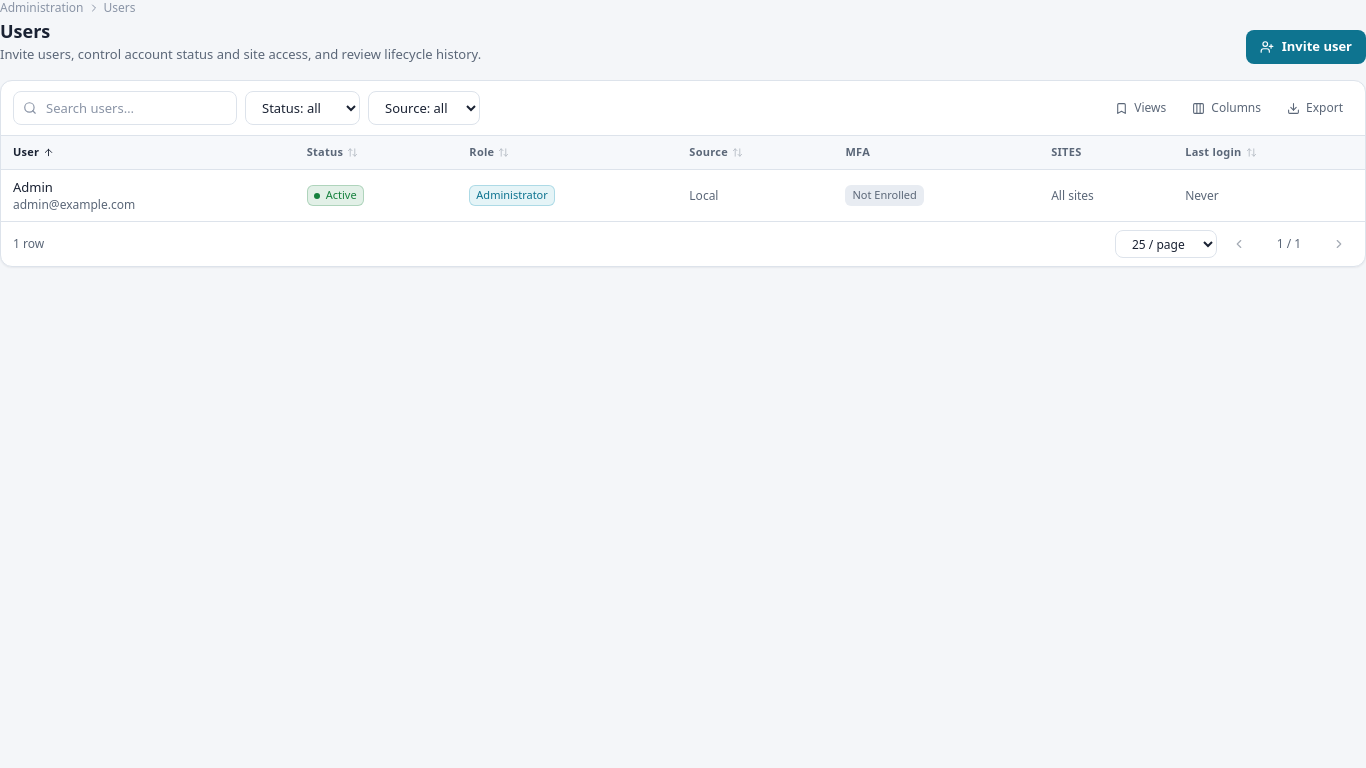
supports invitation creation and shows the one-time copyable link
Expected: the text "admin@example.com" is shown, [13,196,135,213]
Click the button "Invite user": [1306, 47] box [1246,30,1365,64]
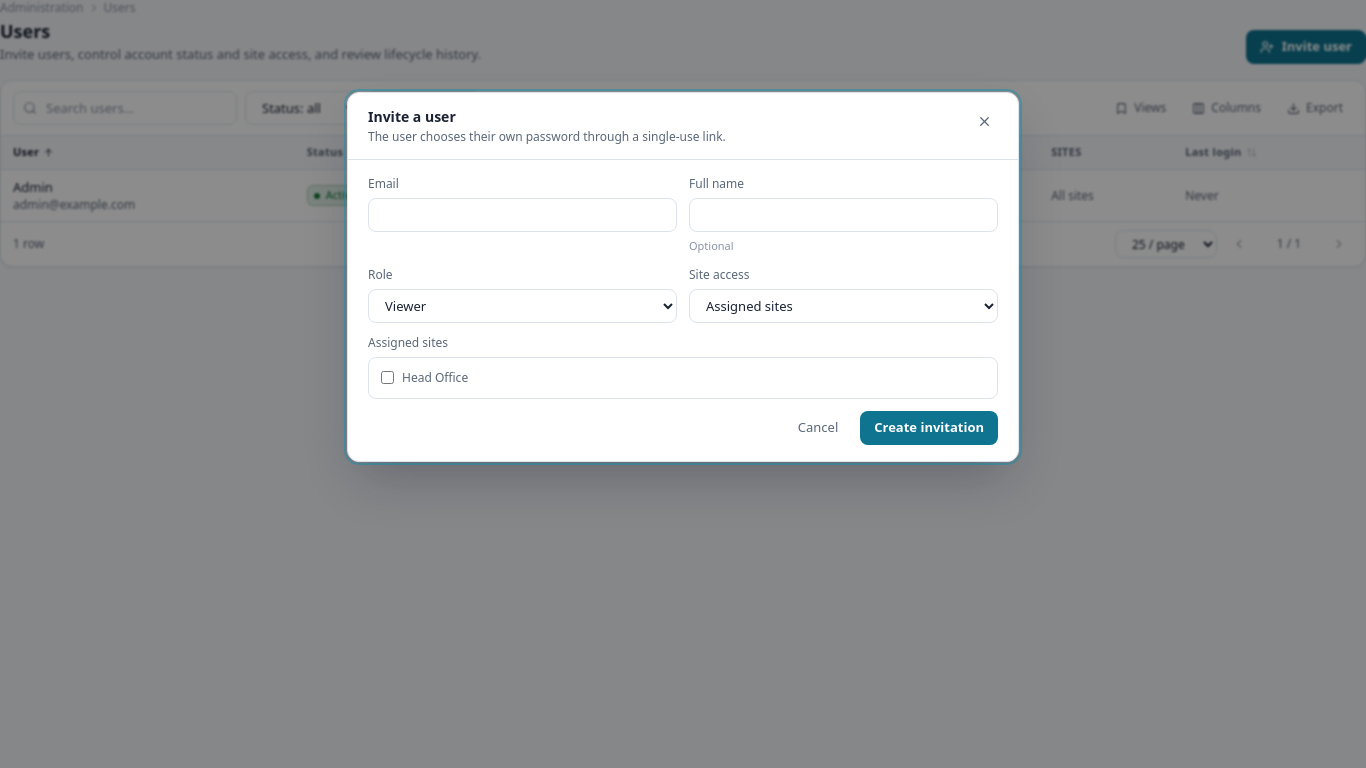
In the field labelled "Email": [522, 215] box [368,198,677,232], type "analyst@example.com"
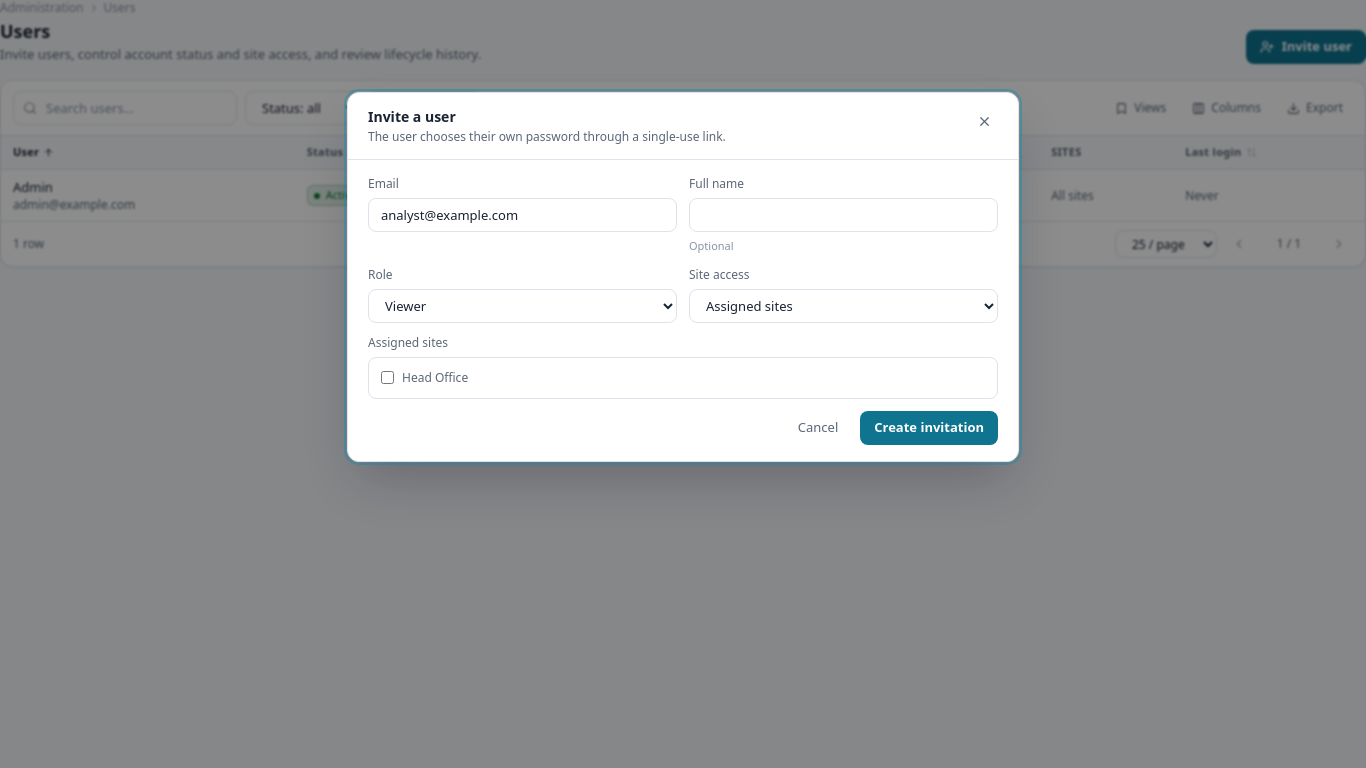
In the field labelled "Full name": [844, 215] box [689,198,998,232], type "Analyst"
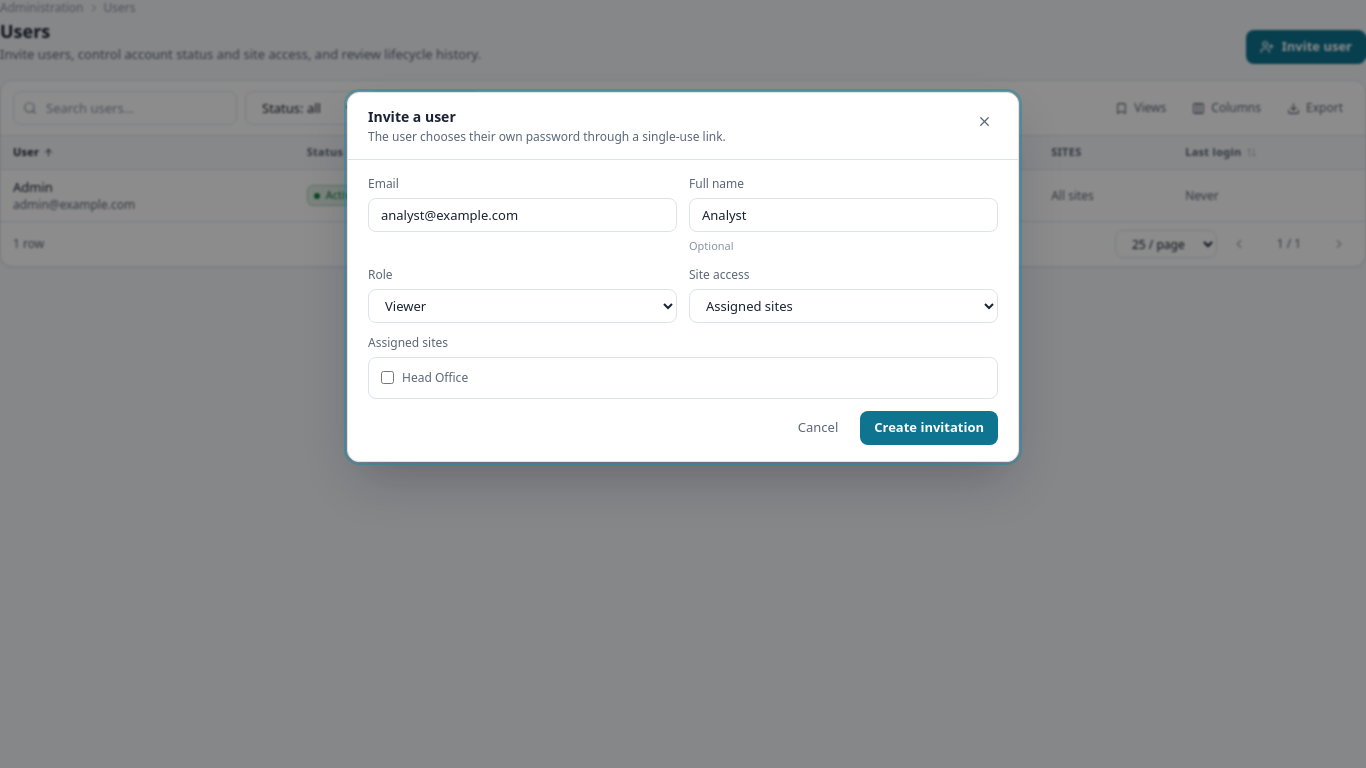
Click the checkbox labelled "Head Office": [388, 378] box [381,371,394,384]
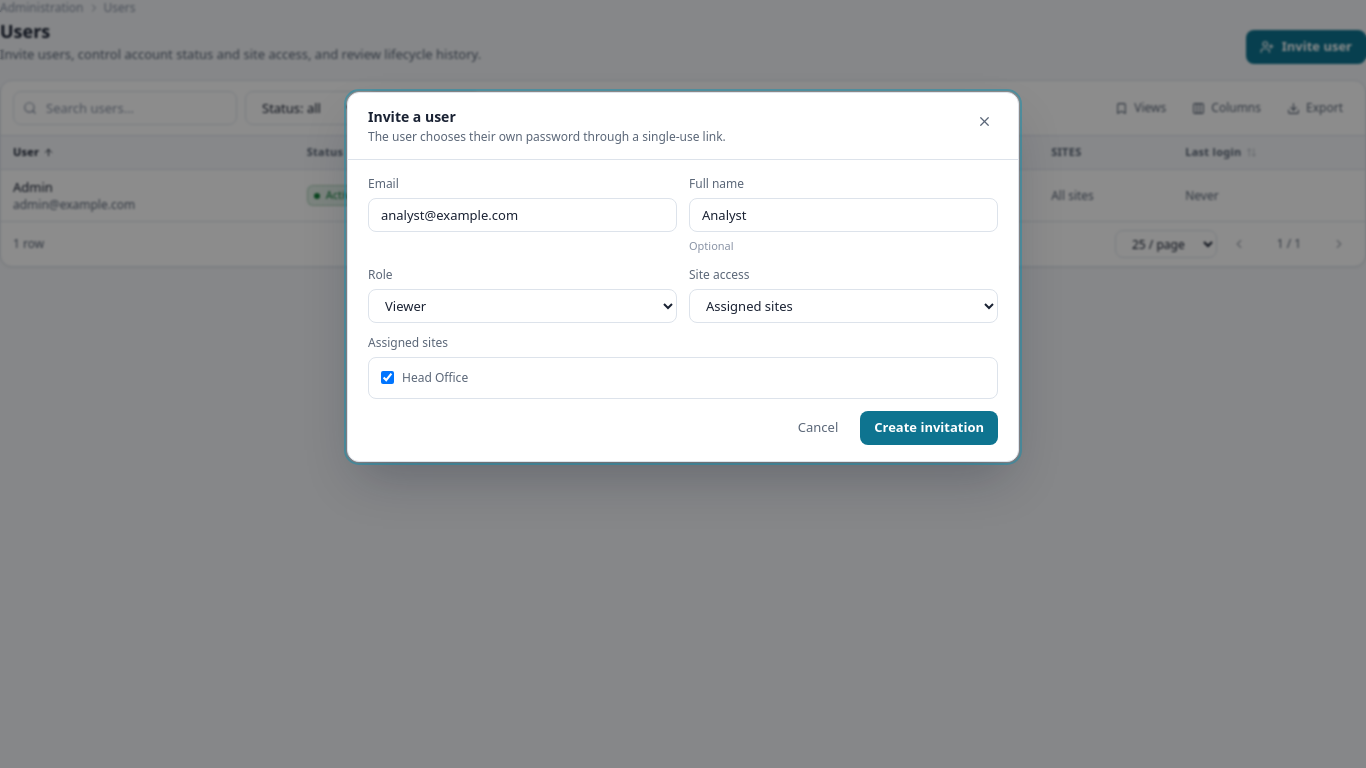
Click the button "Create invitation": [929, 428] box [860,411,998,445]
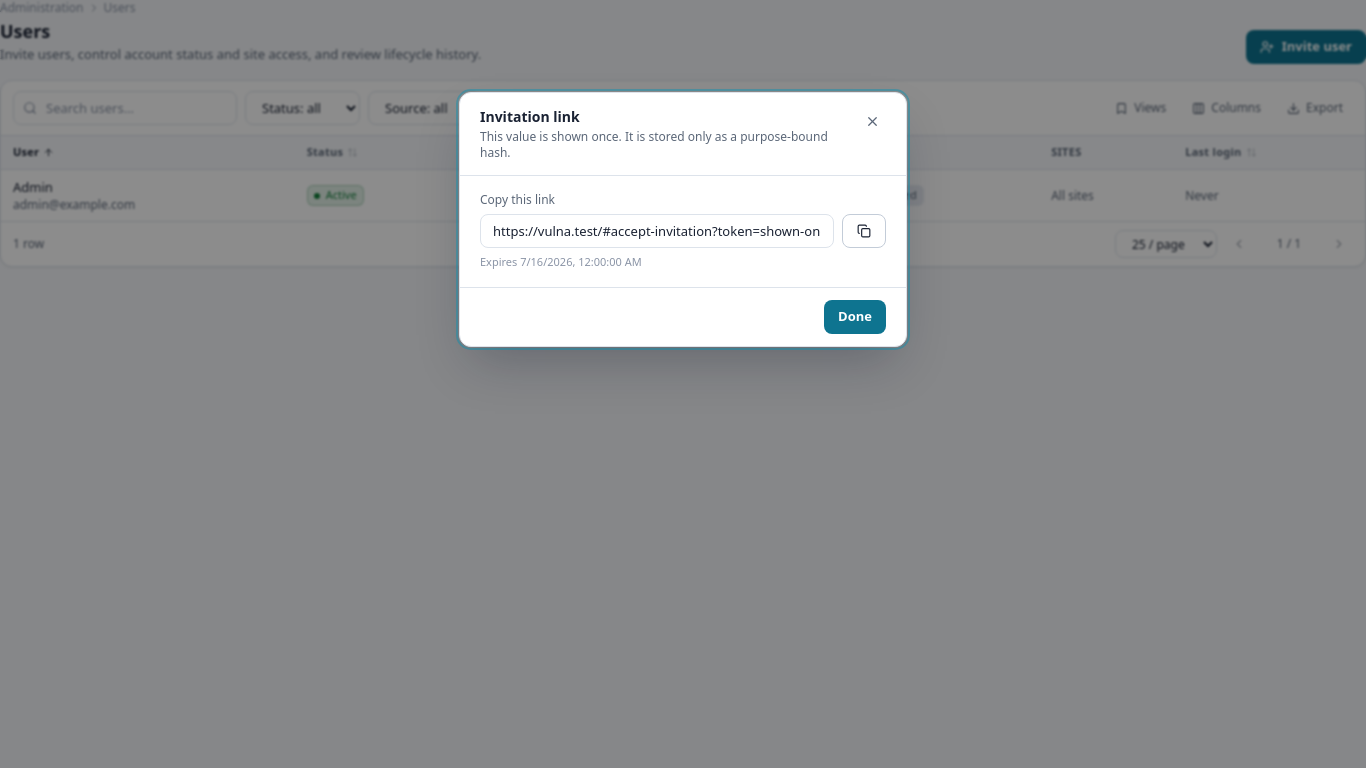
Now the field showing "shown-once" is shown, box [480,214,834,248]
Now the text "stored only as a purpose-bound hash" is shown, box [480,128,828,161]
